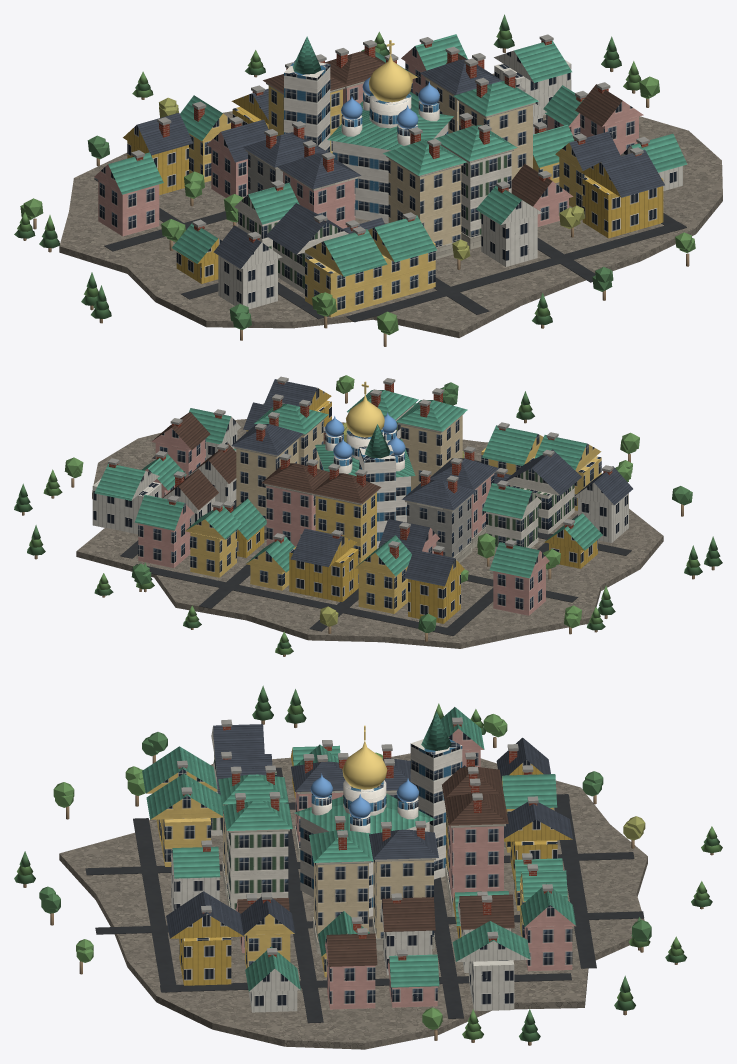
Rendered from city_east_medium.glb.
3 views of the same model, one above another, from view 1: azimuth 30°, elevation 25°; view 2: azimuth 150°, elevation 25°; view 3: azimuth 270°, elevation 25° (orthographic). The views are drawn at different scales.
Parts seen in each view (by area): view 1: city_east_medium; view 2: city_east_medium; view 3: city_east_medium.
Part boxes in pixels (<box>): city_east_medium: <box>14,14,722,346</box>; city_east_medium: <box>14,375,722,656</box>; city_east_medium: <box>14,685,722,1049</box>.
Bounding box in the file's own units: 3.44 × 0.8454 × 3.12.
22 materials, 16 textured.
